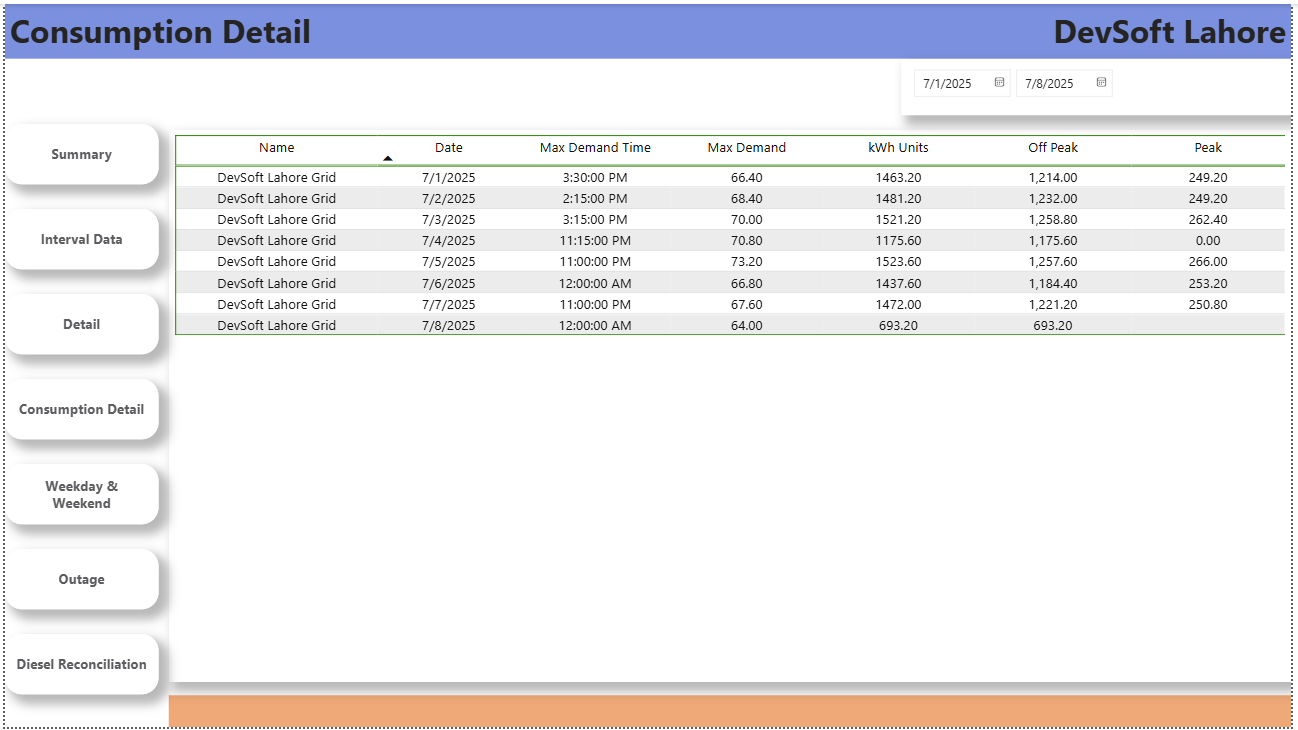

The page's visual inventory and layout, read from the dashboard file:
{"tool":"powerbi","page":{"name":"DevSoft Lahore : Consumption Detail","canvas":[1280,720],"ordinal":3},"visuals":[{"type":"textbox","box":[0,0,1280,54.3],"z":0},{"type":"image","box":[0,0,269.9,54.3],"z":1000},{"type":"textbox","box":[269.9,1.4,346.4,52.9],"z":2000},{"type":"slicer","fields":{"Values":["Calendar.Date"]},"box":[891.8,54.3,388.2,55.7],"z":3000},{"type":"textbox","box":[162.8,687.3,1117.2,33.4],"z":4000},{"type":"tableEx","fields":{"Values":["Transworld*_fact.Name","Calendar.Date","DevSoft*_fact.Max_Demand_Time","DevSoft*_fact.max_Demand","Key Measure.DevSoft Grid","Key Measure.Off Peak","Key Measure.Peak"]},"box":[162.7,126.2,1117.3,548.6],"z":5000},{"type":"actionButton","box":[0,119.7,153,59.8],"z":6000},{"type":"actionButton","box":[0,204.3,153,59.8],"z":7000},{"type":"actionButton","box":[0,288.9,153,59.8],"z":8000},{"type":"actionButton","box":[0,373.6,153,59.8],"z":9000},{"type":"actionButton","box":[0,458.2,153,59.8],"z":10000},{"type":"actionButton","box":[0,542.8,153,59.8],"z":11000},{"type":"actionButton","box":[0,627.5,153,59.8],"z":12000}]}

Visuals, with their boxes in screenshot pixels (x1, y1, x2, y2), scaled from the page's 1280x720 canvas onto the 1298x730 screenshot:
textbox: bbox=[0, 0, 1297, 55]
image: bbox=[0, 0, 274, 55]
textbox: bbox=[274, 1, 625, 55]
slicer - Calendar.Date: bbox=[904, 55, 1297, 112]
textbox: bbox=[165, 697, 1297, 729]
tableEx - Transworld*_fact.Name x Calendar.Date: bbox=[165, 128, 1297, 684]
actionButton: bbox=[0, 121, 155, 182]
actionButton: bbox=[0, 207, 155, 268]
actionButton: bbox=[0, 293, 155, 354]
actionButton: bbox=[0, 379, 155, 439]
actionButton: bbox=[0, 465, 155, 525]
actionButton: bbox=[0, 550, 155, 611]
actionButton: bbox=[0, 636, 155, 697]
